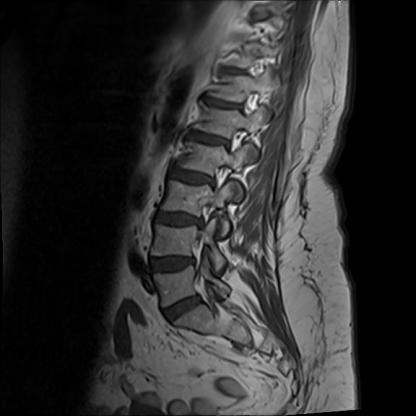Disc Bulgerotation: (159, 292, 213, 323)
Disc Relaxationrotation: (164, 164, 222, 190), (145, 250, 203, 276), (152, 206, 207, 232)
